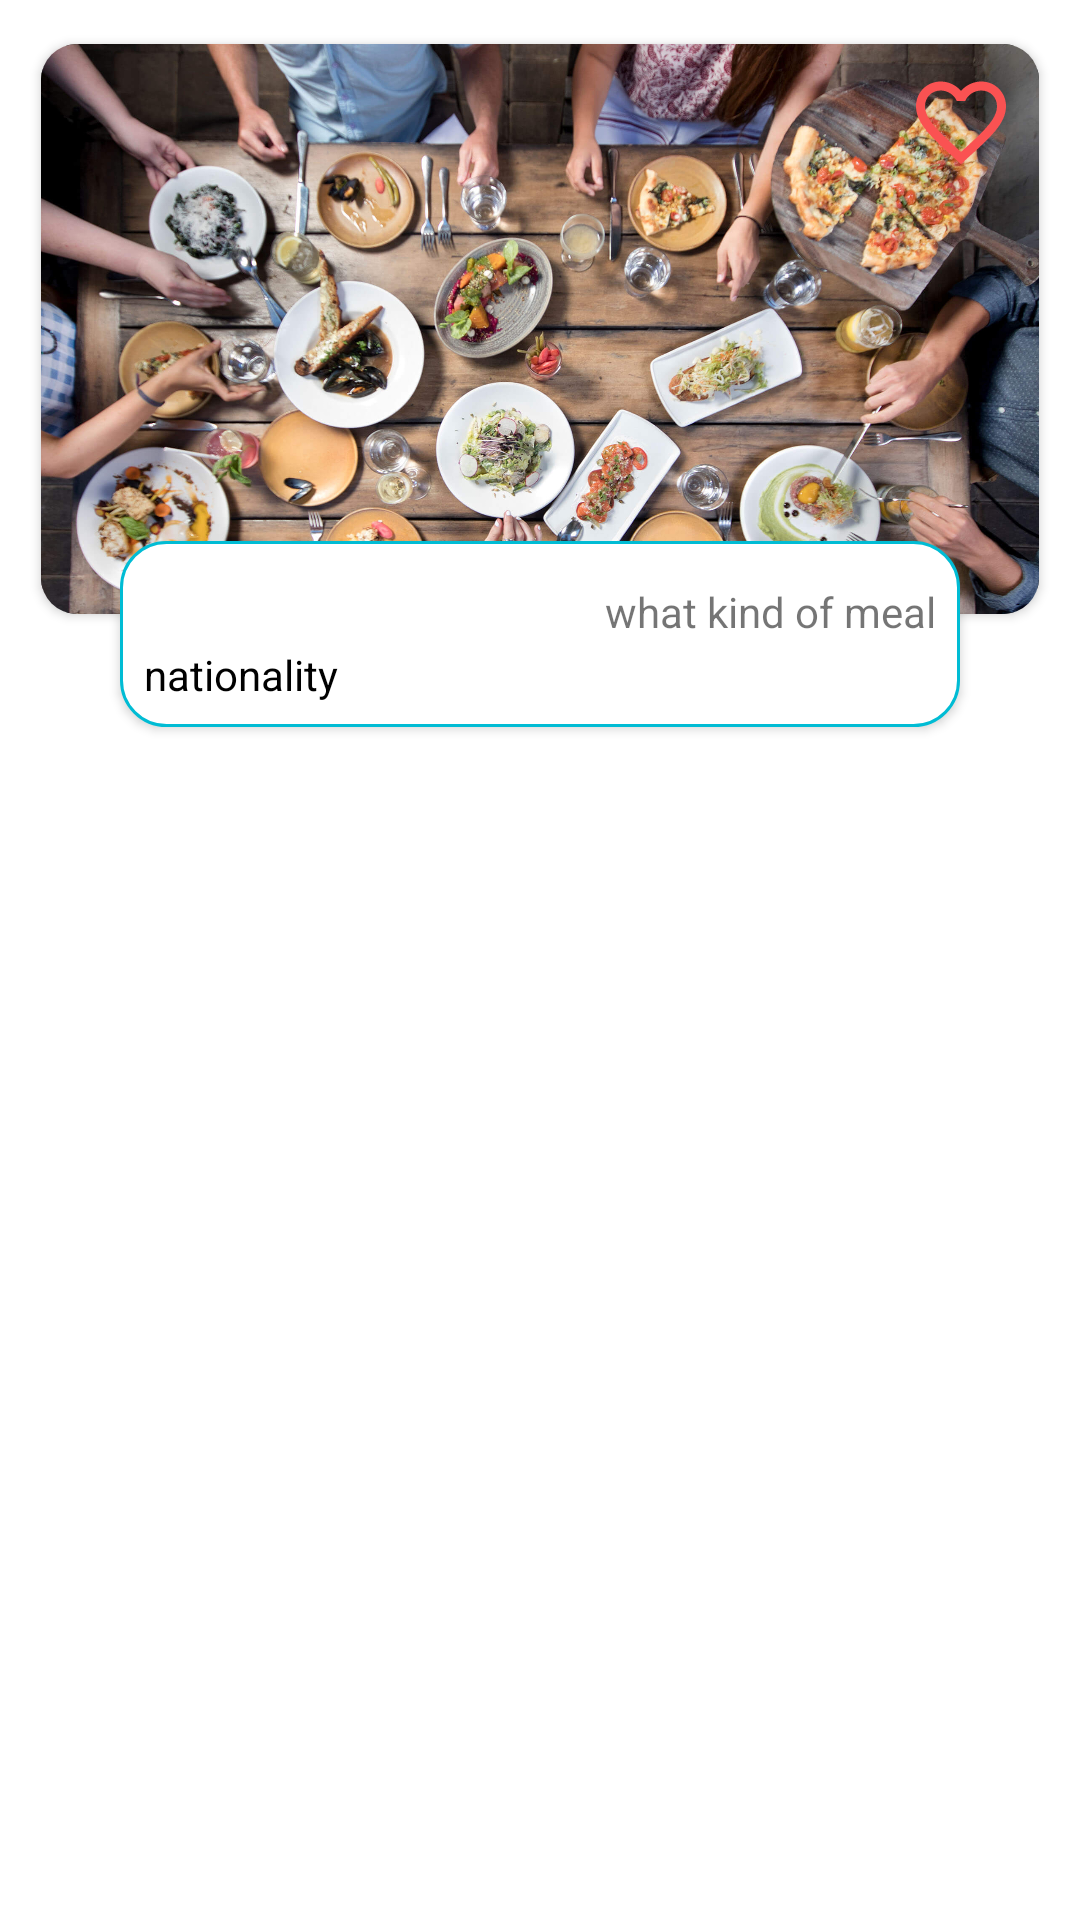

Screen size 1080*1920. Icon name, then its center in pixels as point (x, y):
add to favorites: point (961, 122)
